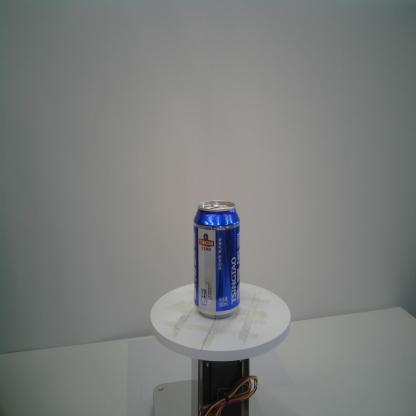Alcohol: (191, 200, 240, 322)
